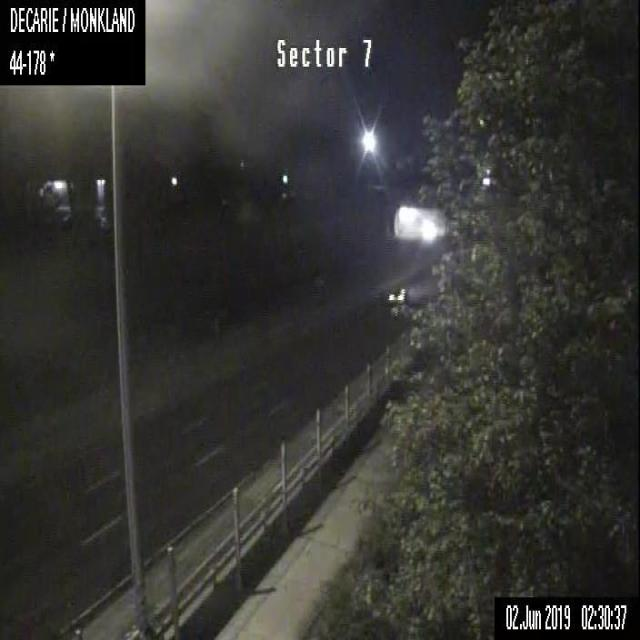vehicle: (388, 287, 406, 305)
